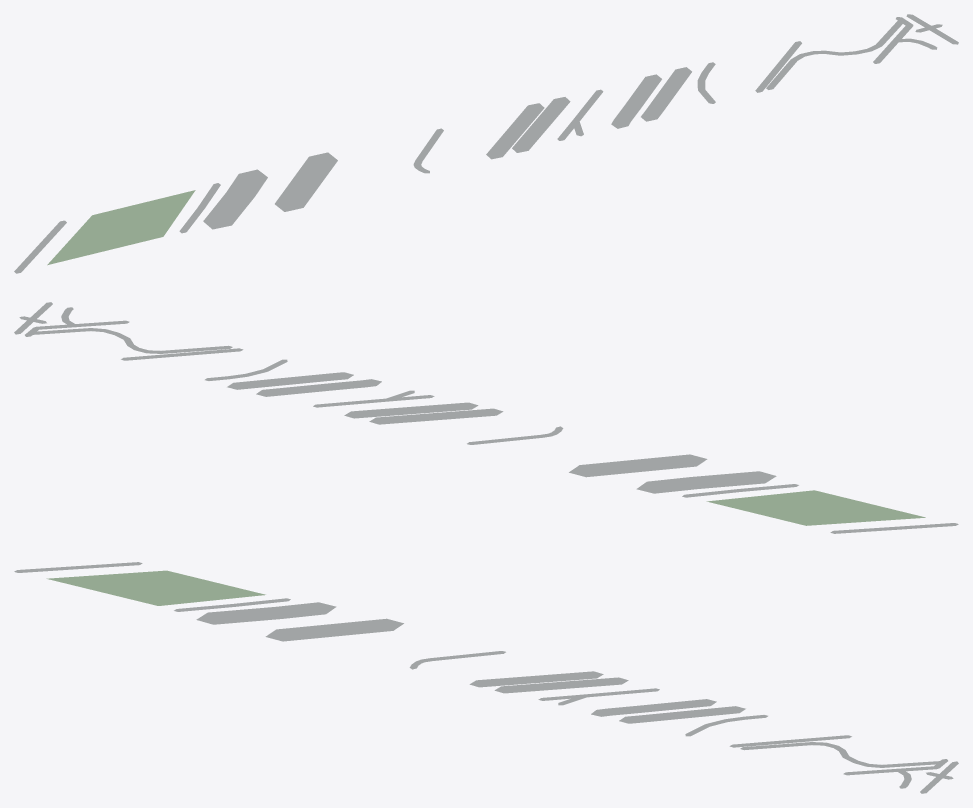
The model's file is 3_-2-known-coarse.glb.
3 renders of one model, top to bottom at view 1: azimuth 30°, elevation 25°; view 2: azimuth 150°, elevation 25°; view 3: azimuth 330°, elevation 25°, orthographic. The views are drawn at different scales.
Bounding box in the file's own units: 431 × 0.1 × 40.34.
